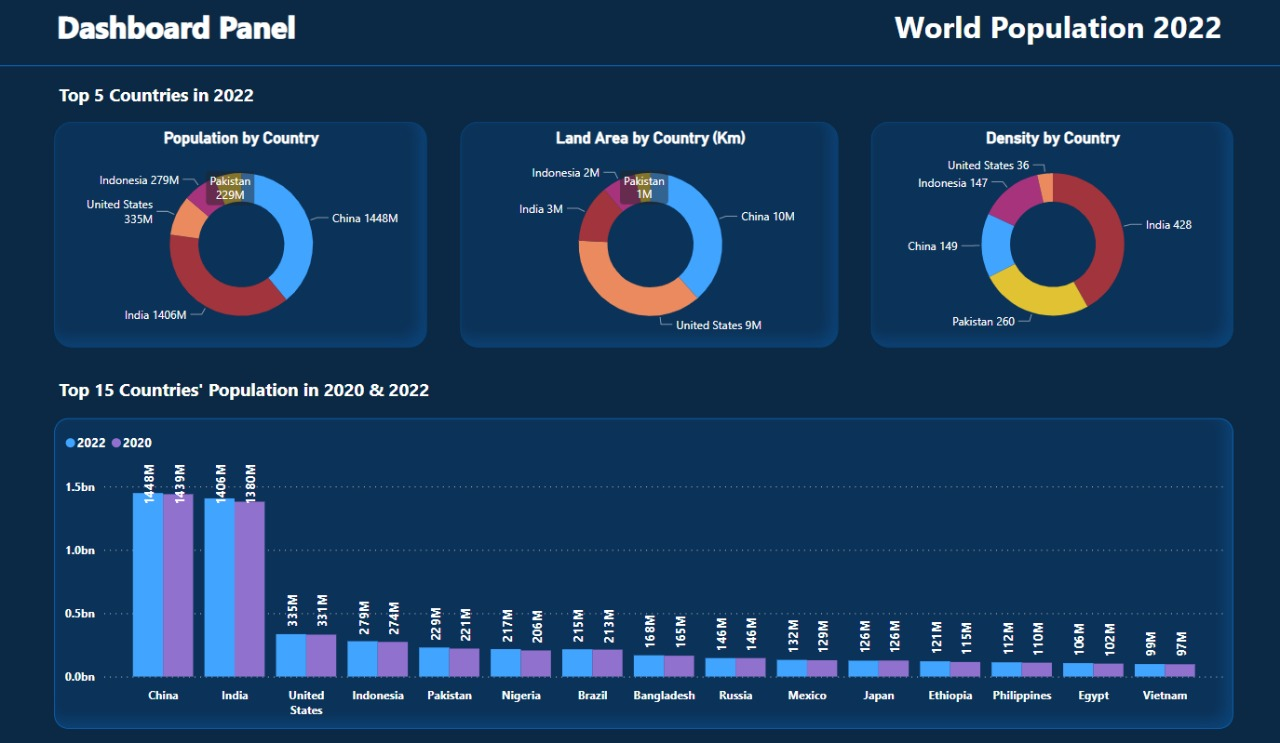

This screenshot's page, from the dashboard's own definition file:
{"tool":"powerbi","page":{"name":"Top N","canvas":[1367,800],"ordinal":1},"visuals":[{"type":"shape","box":[0,0,1366.3,74.2],"z":0},{"type":"textbox","box":[50.7,4.9,279.4,64.3],"z":1000},{"type":"textbox","box":[918.7,4.9,417.9,64.3],"z":2000},{"type":"textbox","box":[60.6,86.6,273.3,35.9],"z":3000},{"type":"donutChart","fields":{"Category":["2022_population.Country"],"Y":["Sum(2022_population.2022_Population)"]},"box":[60.6,133.5,395.7,239.9],"z":4000},{"type":"textbox","box":[60.6,400.6,566.3,35.9],"z":5000},{"type":"clusteredColumnChart","fields":{"Category":["2022_population.Country"],"Y":["Sum(2022_population.Population)","Sum(2022_population.2020)"]},"box":[60.6,448.8,1252.6,330.1],"z":6000},{"type":"donutChart","title":"Land Area by Country (Km)","fields":{"Category":["2022_population.Country"],"Y":["Sum(2022_population.Land_Area)"]},"box":[492.1,133.5,401.9,239.9],"z":7000},{"type":"donutChart","fields":{"Category":["2022_population.Country"],"Y":["Sum(2022_population.Density)"]},"box":[928.6,133.5,384.5,239.9],"z":8000}]}

Visuals, with their boxes in screenshot pixels (x1, y1, x2, y2), scaled from the page's 1367x800 canvas onto the 1280x743 screenshot:
shape: bbox=[0, 0, 1279, 69]
textbox: bbox=[47, 5, 309, 64]
textbox: bbox=[860, 5, 1252, 64]
textbox: bbox=[57, 80, 313, 114]
donutChart - 2022_population.Country x Sum(2022_population.2022_Population): bbox=[57, 124, 427, 347]
textbox: bbox=[57, 372, 587, 405]
clusteredColumnChart - 2022_population.Country x Sum(2022_population.Population): bbox=[57, 417, 1230, 723]
"Land Area by Country (Km)" donutChart: bbox=[461, 124, 837, 347]
donutChart - 2022_population.Country x Sum(2022_population.Density): bbox=[870, 124, 1230, 347]
